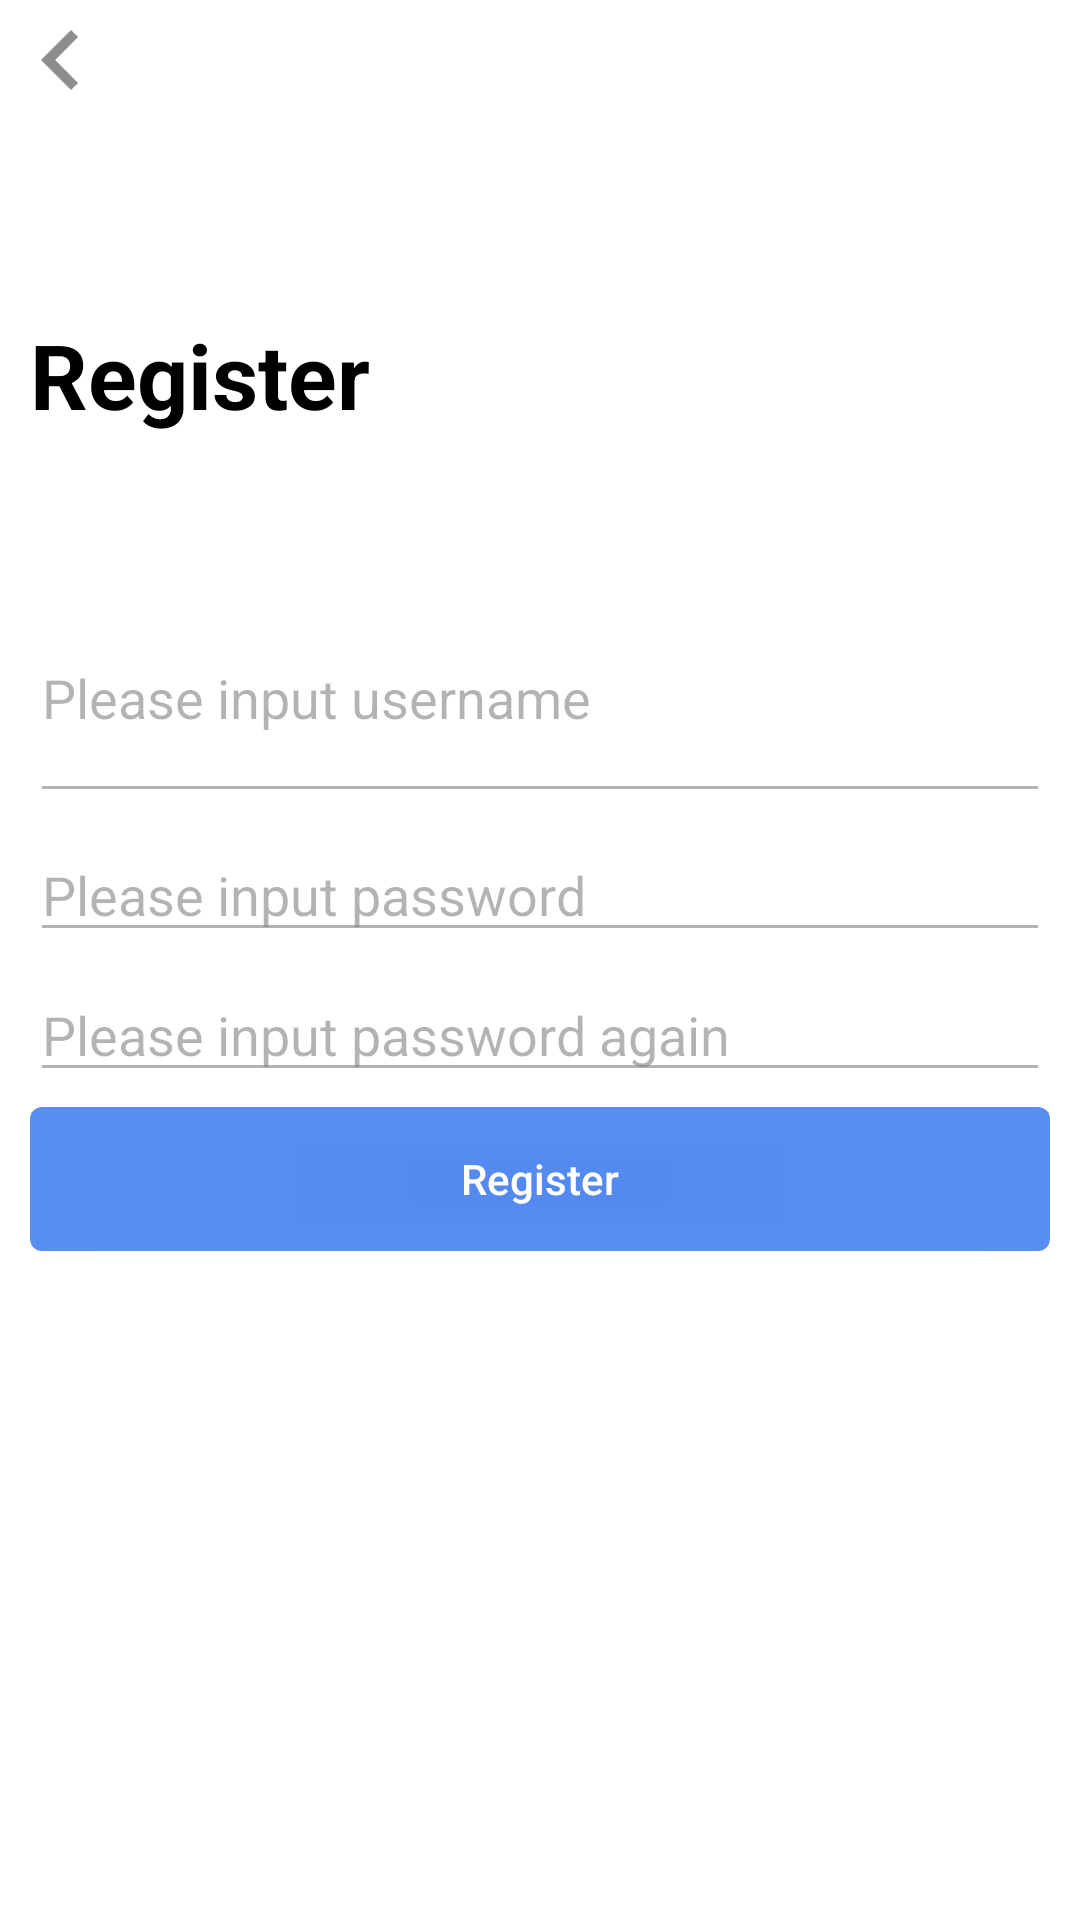

Icons on this 1080px×1920px Android screen, each with the point to tap as (x,y):
chevron left: (59,60)
